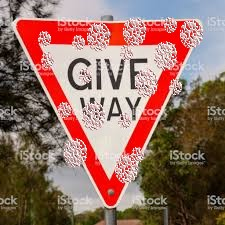giveway: (12, 16, 201, 209), (14, 17, 102, 169), (50, 77, 168, 174), (109, 20, 168, 166)
